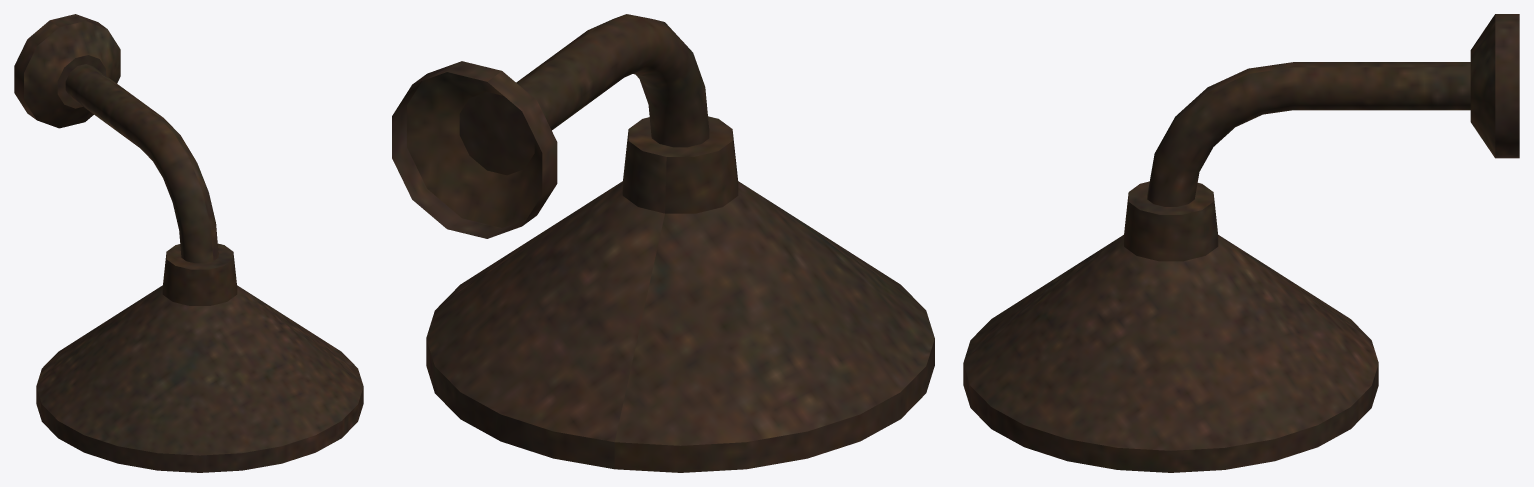
The model's file is lamp_mx_2_off.fbx.
The picture shows the model from 3 angles, left to right: view 1: azimuth 30°, elevation 25°; view 2: azimuth 150°, elevation 25°; view 3: azimuth 270°, elevation 25°; orthographic projection. The views are drawn at different scales.
Parts seen in each view (by area): view 1: lamp_mx_2_off; view 2: lamp_mx_2_off; view 3: lamp_mx_2_off.
Boxes of the visible parts, x1,y1,x2,y2 form: lamp_mx_2_off: [14, 14, 363, 472]; lamp_mx_2_off: [392, 14, 934, 472]; lamp_mx_2_off: [963, 14, 1519, 472].
Size of the model in its own units: 0.357 by 0.478 by 0.3682.
